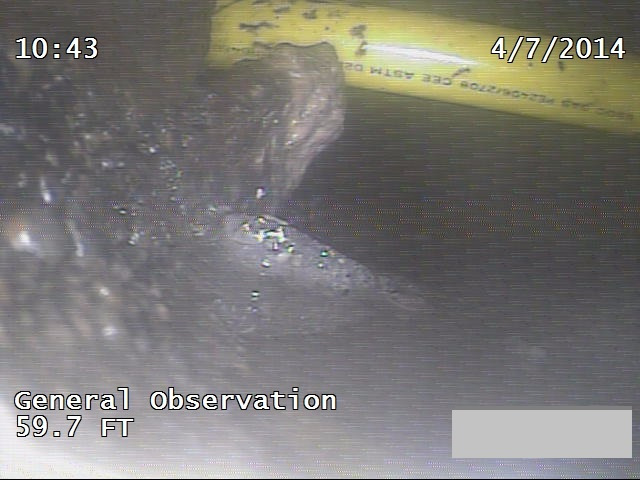cb: (188, 2, 633, 138)
